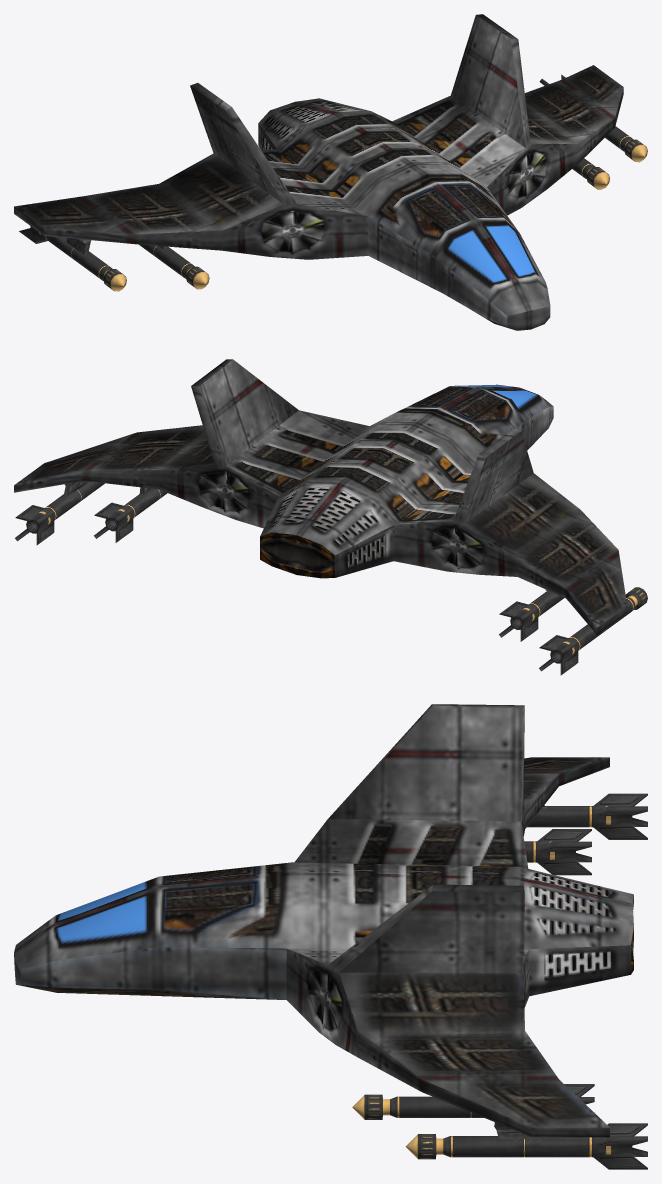
File: titaniun-fighter.fbx
3 renders of one model, top to bottom at view 1: azimuth 30°, elevation 25°; view 2: azimuth 150°, elevation 25°; view 3: azimuth 270°, elevation 25°, orthographic. The views are drawn at different scales.
Parts seen in each view (by area): view 1: T-Fighter, Rocket_003, Rocket_002, Rocket_001, Rocket_000; view 2: T-Fighter, Rocket_003, Rocket_001, Rocket_000, Rocket_002; view 3: T-Fighter, Rocket_001, Rocket_003, Rocket_000, Rocket_002.
Boxes of the visible parts, x1=… form: T-Fighter: x1=14, y1=14, x2=623, y2=330; Rocket_003: x1=19, y1=226, x2=126, y2=291; Rocket_002: x1=139, y1=244, x2=209, y2=289; Rocket_001: x1=539, y1=74, x2=647, y2=162; Rocket_000: x1=572, y1=158, x2=609, y2=189; T-Fighter: x1=14, y1=359, x2=627, y2=634; Rocket_003: x1=539, y1=587, x2=647, y2=675; Rocket_001: x1=15, y1=481, x2=104, y2=545; Rocket_000: x1=94, y1=488, x2=167, y2=542; Rocket_002: x1=499, y1=591, x2=564, y2=641; T-Fighter: x1=14, y1=704, x2=633, y2=1137; Rocket_001: x1=405, y1=1123, x2=647, y2=1169; Rocket_003: x1=527, y1=793, x2=647, y2=839; Rocket_000: x1=352, y1=1084, x2=594, y2=1119; Rocket_002: x1=524, y1=829, x2=591, y2=875.
Bounding box in the file's own units: 8.78 × 2.25 × 6.35.
